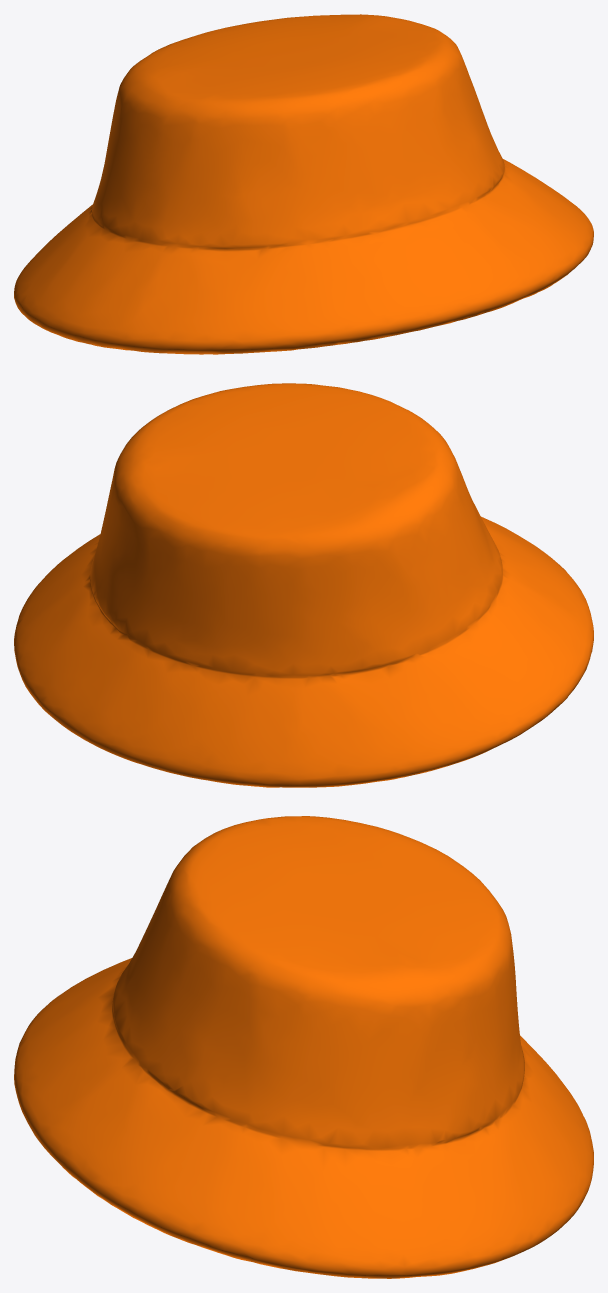
File: Bucket-Orange.glb
The picture shows the model from 3 angles, top to bottom: view 1: azimuth 30°, elevation 25°; view 2: azimuth 150°, elevation 25°; view 3: azimuth 270°, elevation 25°; orthographic projection. The views are drawn at different scales.
Visible parts, largest first — view 1: Bucket-Orange; view 2: Bucket-Orange; view 3: Bucket-Orange.
Part boxes in pixels (x1,y1,x2,y2): Bucket-Orange: (14, 14, 593, 354); Bucket-Orange: (14, 383, 593, 787); Bucket-Orange: (14, 816, 593, 1278).
Bounding box in the file's own units: 0.7047 × 0.336 × 0.5977.
1 material, 1 textured.
